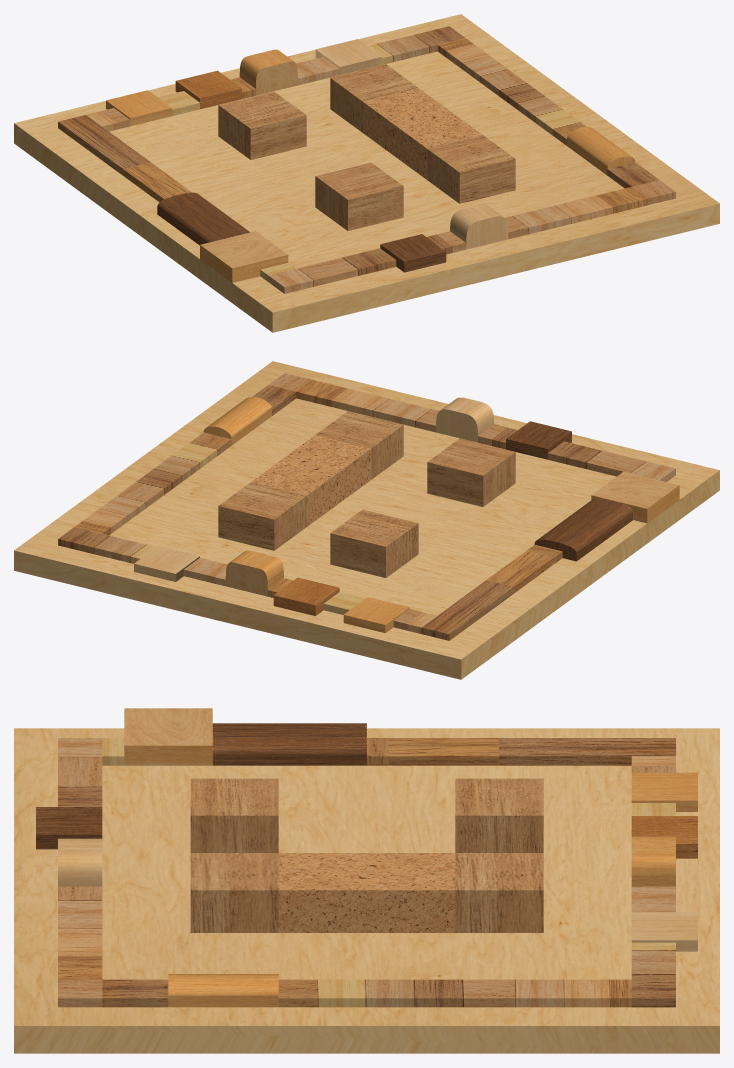
File: nivel1.fbx
3 views of the same model, one above another, from view 1: azimuth 30°, elevation 25°; view 2: azimuth 150°, elevation 25°; view 3: azimuth 270°, elevation 25° (orthographic). The views are drawn at different scales.
Parts seen in each view (by area): view 1: Cube, Cube.006, Cube.013, Cube.014, Cube.012, Cube.010, Cube.015, Cube.011, Cube.016, Cube.004, Cube.003, Cube.002 (+5 smaller); view 2: Cube, Cube.006, Cube.013, Cube.014, Cube.011, Cube.004, Cube.016, Cube.012, Cube.015, Cube.010, Cube.003, Cube.002 (+5 smaller); view 3: Cube, Cube.006, Cube.011, Cube.012, Cube.015, Cube.016, Cube.013, Cube.014, Cube.004, Cube.010, Cube.005, Cube.009 (+5 smaller).
Boxes of the visible parts, bbox=[...] form: Cube: bbox=[14, 14, 719, 332]; Cube.006: bbox=[58, 26, 675, 293]; Cube.013: bbox=[315, 162, 403, 230]; Cube.014: bbox=[218, 91, 306, 159]; Cube.012: bbox=[427, 135, 515, 203]; Cube.010: bbox=[200, 231, 288, 282]; Cube.015: bbox=[362, 88, 450, 156]; Cube.011: bbox=[330, 64, 417, 132]; Cube.016: bbox=[395, 111, 482, 179]; Cube.004: bbox=[157, 192, 250, 245]; Cube.003: bbox=[239, 49, 297, 95]; Cube.002: bbox=[450, 204, 508, 249]; Cube: bbox=[14, 361, 719, 679]; Cube.006: bbox=[58, 373, 675, 640]; Cube.013: bbox=[427, 438, 515, 506]; Cube.014: bbox=[330, 509, 418, 577]; Cube.011: bbox=[218, 482, 306, 550]; Cube.004: bbox=[534, 498, 633, 561]; Cube.016: bbox=[283, 435, 371, 503]; Cube.012: bbox=[316, 411, 403, 479]; Cube.015: bbox=[251, 458, 338, 526]; Cube.010: bbox=[591, 471, 679, 523]; Cube.003: bbox=[225, 550, 283, 596]; Cube.002: bbox=[436, 397, 494, 442]; Cube: bbox=[14, 728, 719, 1053]; Cube.006: bbox=[58, 738, 675, 1007]; Cube.011: bbox=[455, 853, 543, 932]; Cube.012: bbox=[190, 853, 278, 932]; Cube.015: bbox=[367, 853, 455, 932]; Cube.016: bbox=[278, 853, 366, 932]; Cube.013: bbox=[190, 778, 278, 858]; Cube.014: bbox=[455, 778, 543, 852]; Cube.004: bbox=[212, 723, 366, 765]; Cube.010: bbox=[124, 708, 212, 765]; Cube.005: bbox=[168, 974, 278, 1007]; Cube.009: bbox=[36, 807, 102, 849].
Bounding box in the file's own units: 5970 × 658 × 5984.
Materials: 6 (6 with a texture image).
